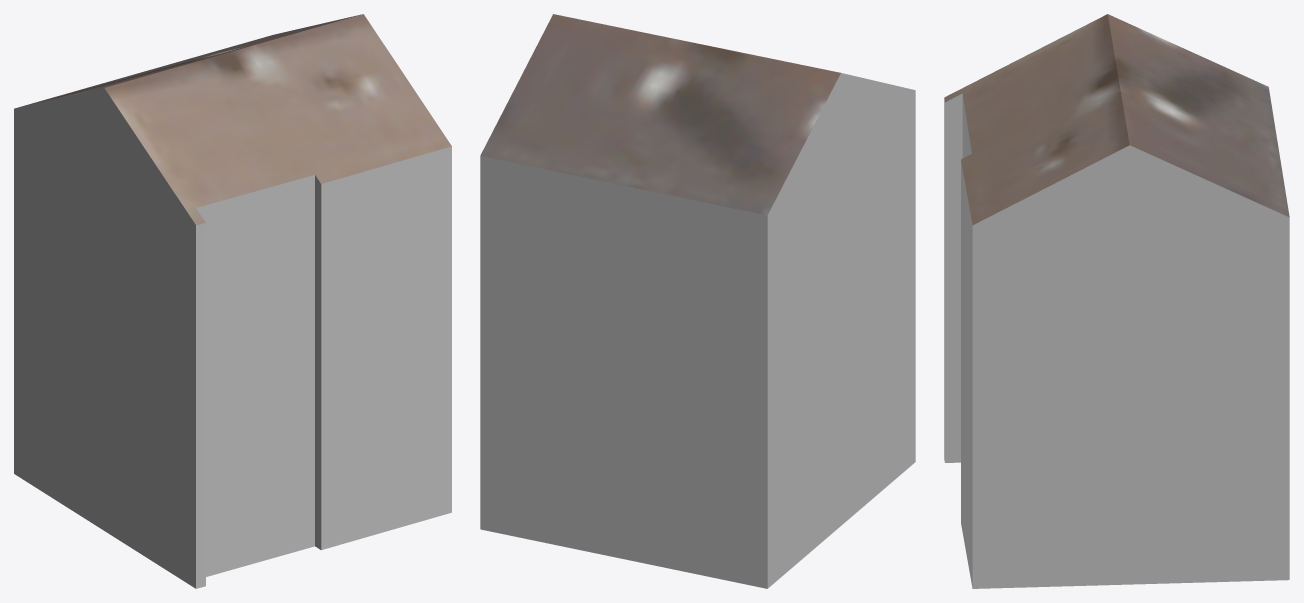
The model's file is DEBW_0010007Txil.gltf.
3 views of the same model, side by side, from view 1: azimuth 30°, elevation 25°; view 2: azimuth 150°, elevation 25°; view 3: azimuth 270°, elevation 25° (orthographic). The views are drawn at different scales.
Visible parts, largest first — view 1: Z_UP; view 2: Z_UP; view 3: Z_UP.
Part boxes in pixels (x1,y1,x2,y2): Z_UP: (14, 14, 451, 588); Z_UP: (480, 14, 915, 588); Z_UP: (944, 14, 1289, 588).
Bounding box in the file's own units: 9.93 × 14.56 × 10.37.
Materials: 2 (1 with a texture image).
